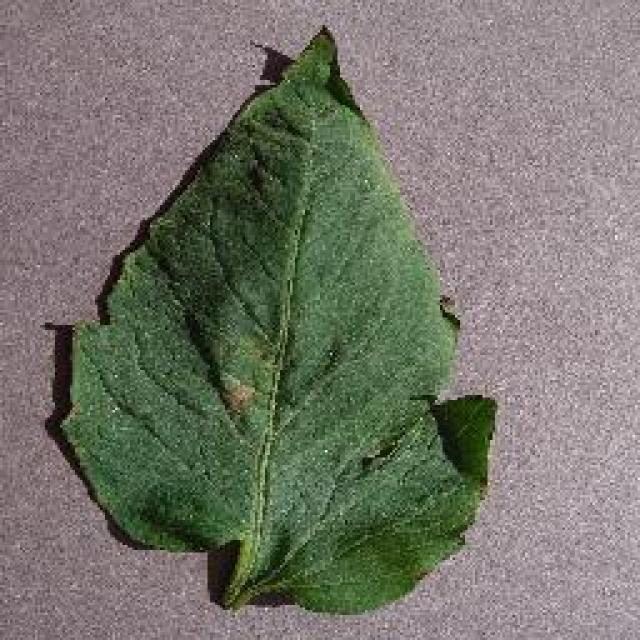Tomato Septoria spot leaf: (61, 25, 499, 615)
